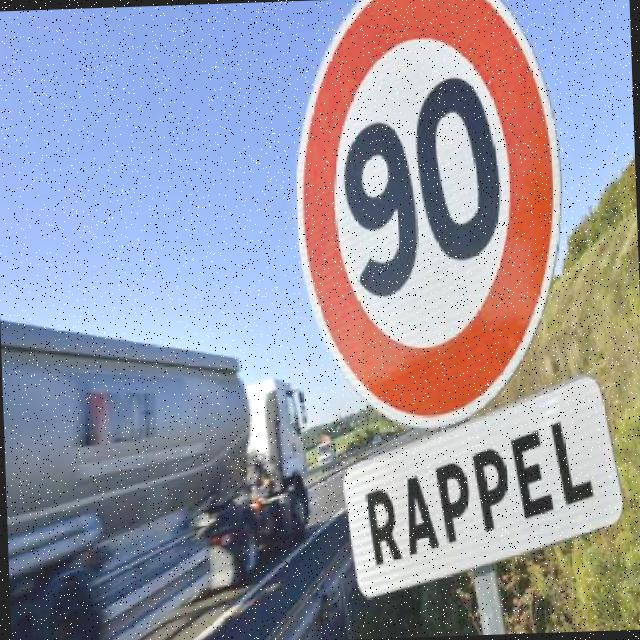Ograniczenie predkosci do 90: (297, 0, 562, 412)
